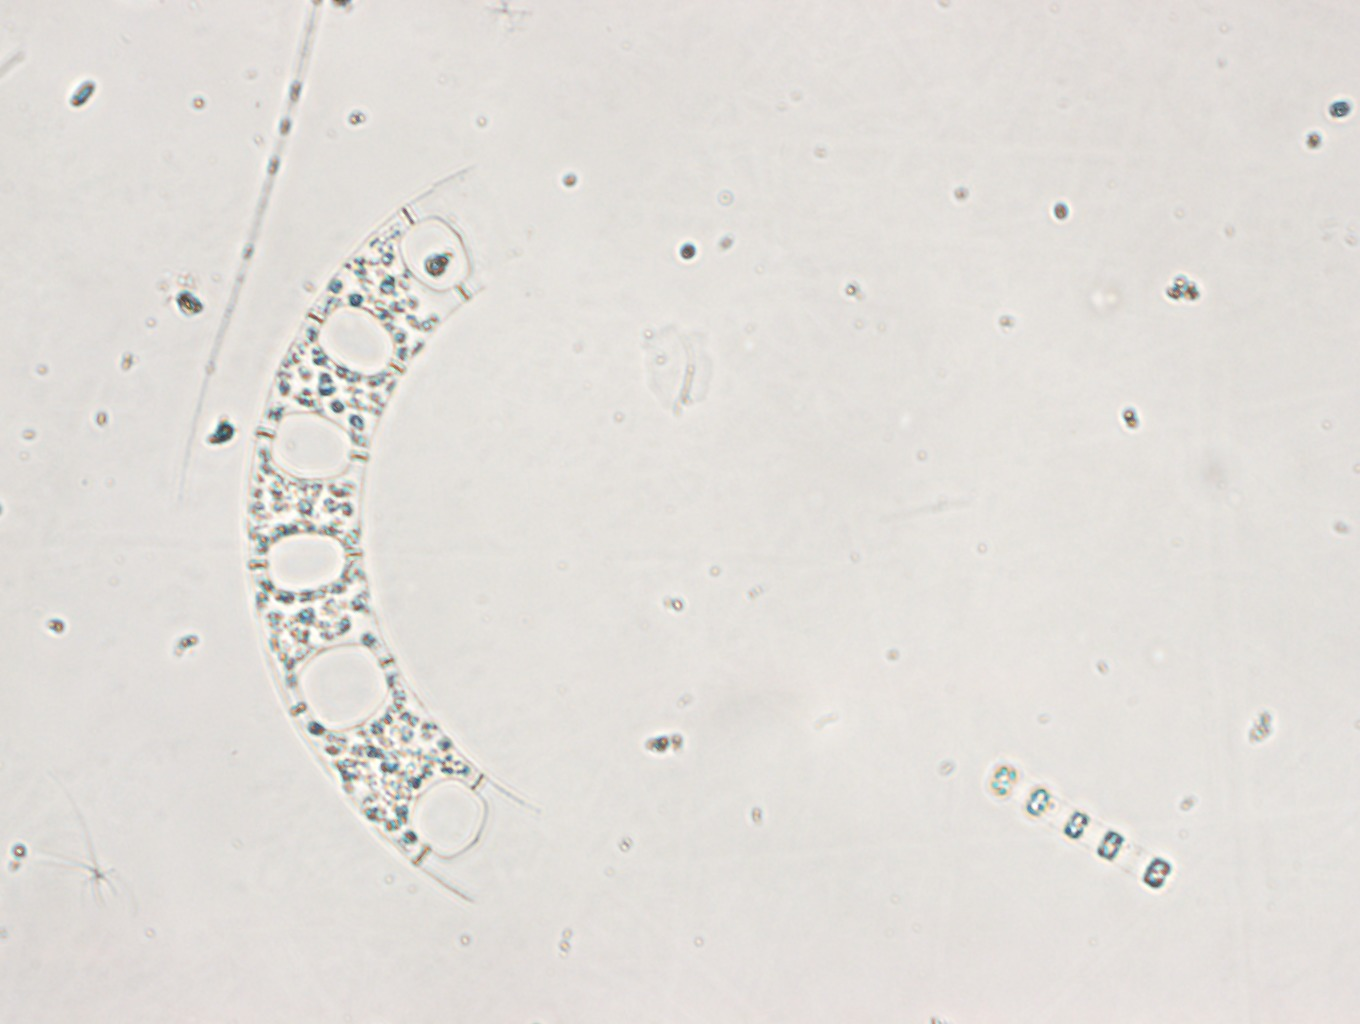eucampia: (243, 162, 539, 905)
skeletonema: (983, 760, 1174, 891)
